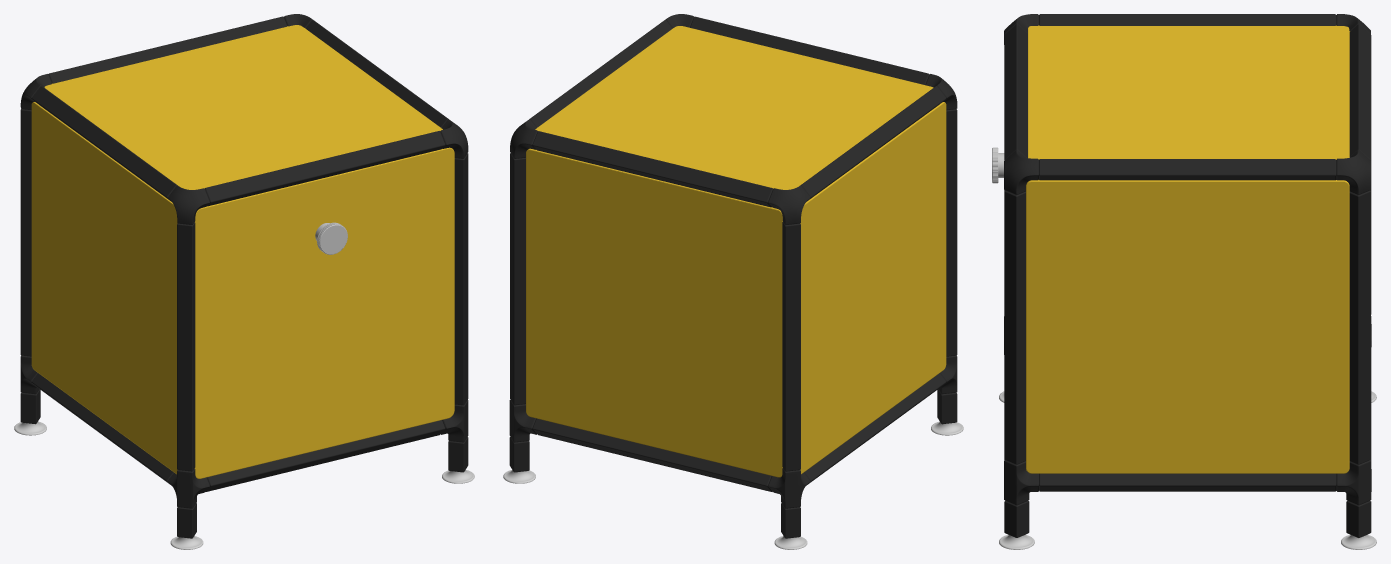
The picture shows the model from 3 angles, left to right: view 1: azimuth 30°, elevation 25°; view 2: azimuth 150°, elevation 25°; view 3: azimuth 270°, elevation 25°; orthographic projection. The views are drawn at different scales.
Parts seen in each view (by area): view 1: 329x329x329; view 2: 329x329x329; view 3: 329x329x329.
Boxes of the visible parts, box(x1,y1,x2,y2) form: 329x329x329: box(14, 14, 474, 549); 329x329x329: box(503, 14, 963, 549); 329x329x329: box(992, 14, 1376, 549).
Size of the model in its own units: 0.4189 by 0.4683 by 0.4257.
